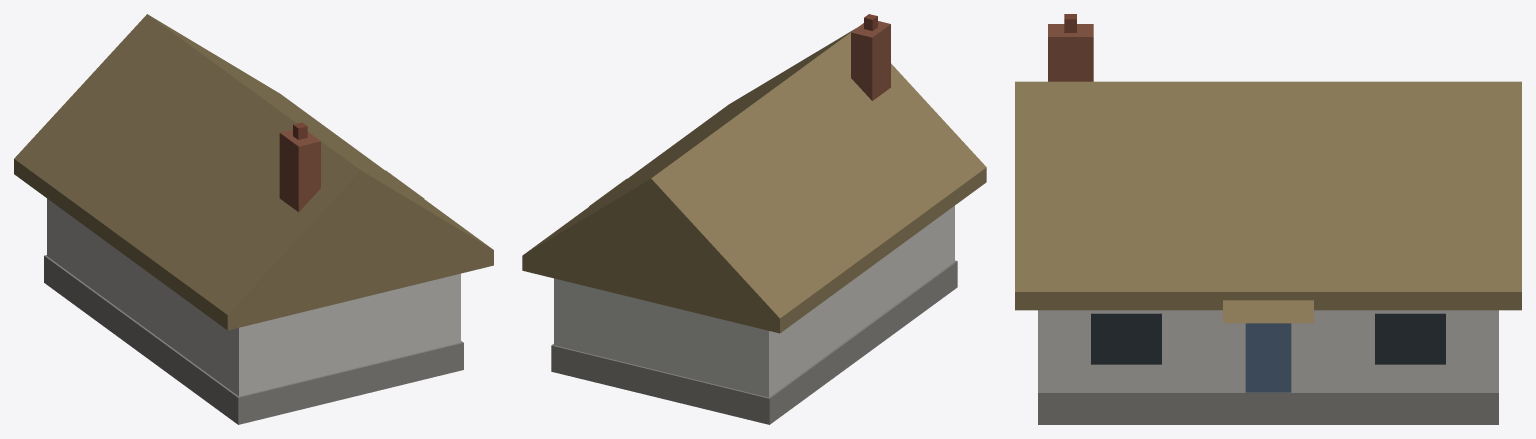
The model's file is SM_Prop_cafe_building_7_LOD2.glb.
3 renders of one model, left to right at view 1: azimuth 30°, elevation 25°; view 2: azimuth 150°, elevation 25°; view 3: azimuth 270°, elevation 25°, orthographic. The views are drawn at different scales.
Visible parts, largest first — view 1: SM_Prop_cafe_building_7_LOD2; view 2: SM_Prop_cafe_building_7_LOD2; view 3: SM_Prop_cafe_building_7_LOD2.
Boxes of the visible parts, x1=… form: SM_Prop_cafe_building_7_LOD2: x1=14, y1=14, x2=493, y2=424; SM_Prop_cafe_building_7_LOD2: x1=522, y1=14, x2=986, y2=424; SM_Prop_cafe_building_7_LOD2: x1=1015, y1=14, x2=1521, y2=424.
Bounding box in the file's own units: 7.7 × 7 × 10.
